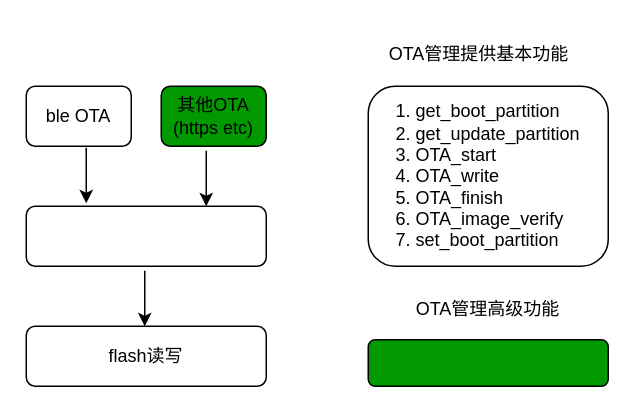
Some shapes in this 635 by 413 pixel diagram are drawn without their labels. Each missing label, with the box of its shape:
OTA 管理: (25, 205, 266, 266)
Rollback management: (367, 338, 608, 386)
